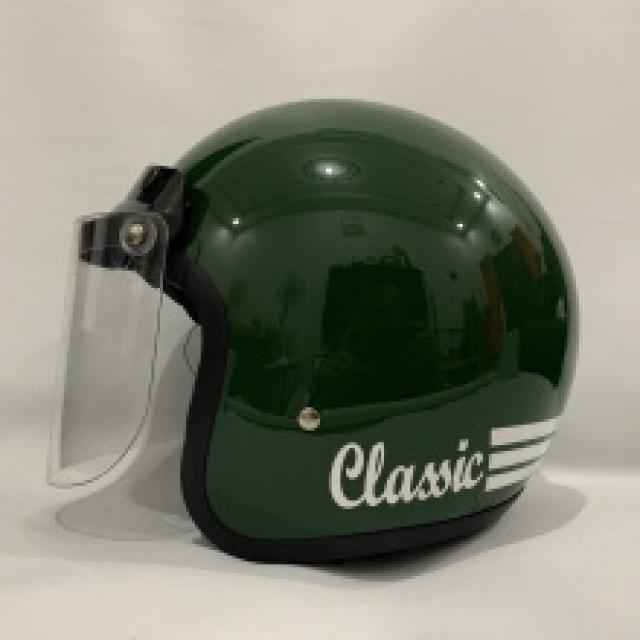Helm: (34, 72, 588, 572)
